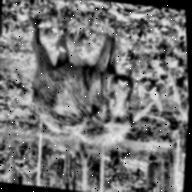boar: (13, 20, 146, 158)
